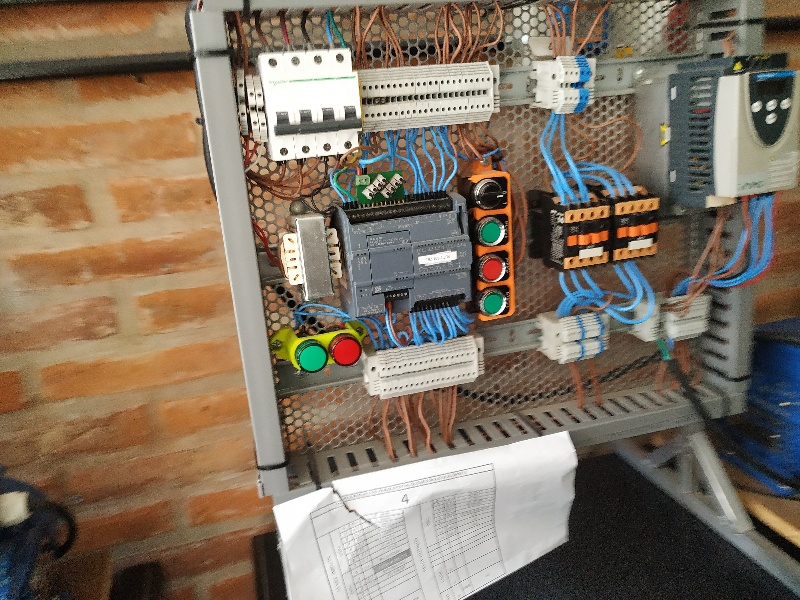Tablero 4: (226, 14, 799, 501)
